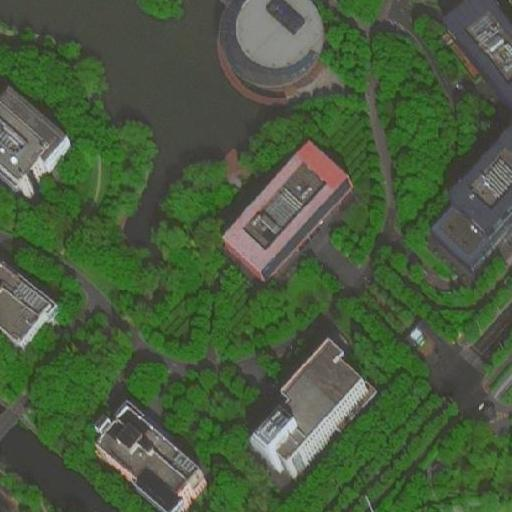building: (222, 134, 353, 280), (251, 343, 376, 485), (92, 399, 210, 512), (431, 123, 511, 274), (0, 254, 56, 351), (405, 319, 431, 349)
